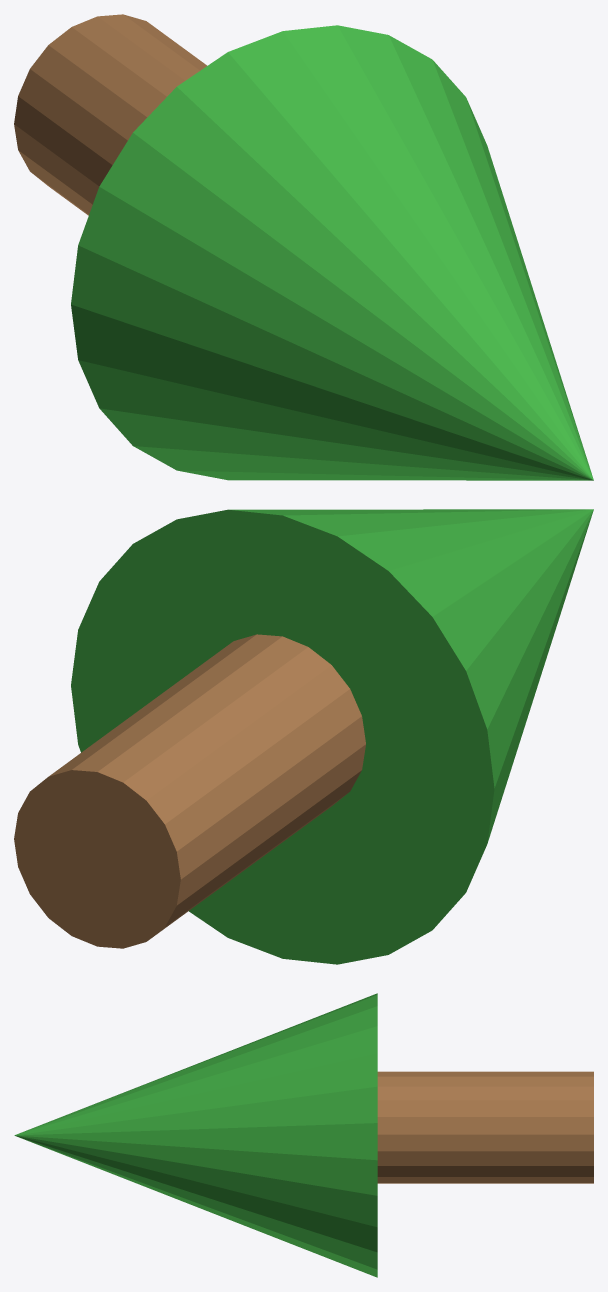
Rendered from tinker.obj.
3 renders of one model, top to bottom at view 1: azimuth 30°, elevation 25°; view 2: azimuth 150°, elevation 25°; view 3: azimuth 270°, elevation 25°, orthographic. The views are drawn at different scales.
Visible parts, largest first — view 1: group_0_4634441, group_0_11107152; view 2: group_0_4634441, group_0_11107152; view 3: group_0_4634441, group_0_11107152.
Boxes of the visible parts, x1,y1,x2,y2 form: group_0_4634441: [71, 25, 593, 480]; group_0_11107152: [14, 14, 207, 215]; group_0_4634441: [71, 509, 593, 964]; group_0_11107152: [14, 634, 365, 948]; group_0_4634441: [14, 993, 377, 1277]; group_0_11107152: [377, 1071, 593, 1183].
Size of the model in its own units: 33 by 33 by 67.
